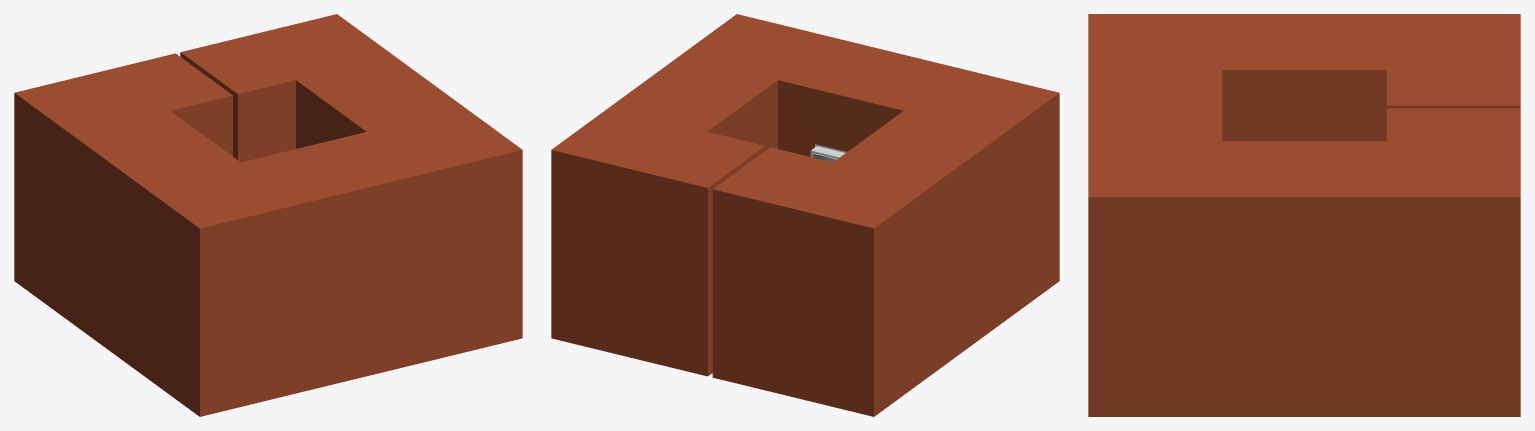
The model's file is room_5_4.glb.
3 views of the same model, side by side, from view 1: azimuth 30°, elevation 25°; view 2: azimuth 150°, elevation 25°; view 3: azimuth 270°, elevation 25° (orthographic). The views are drawn at different scales.
Parts seen in each view (by area): view 1: cumnata_5_4; view 2: cumnata_5_4; view 3: cumnata_5_4.
Part boxes in pixels (bbox=[...]): cumnata_5_4: bbox=[14, 14, 522, 416]; cumnata_5_4: bbox=[551, 14, 1059, 416]; cumnata_5_4: bbox=[1088, 14, 1520, 416].
Size of what is drawn, in the model's own units: 4.47 by 2.49 by 4.45.
Materials: 17 (1 with a texture image).
